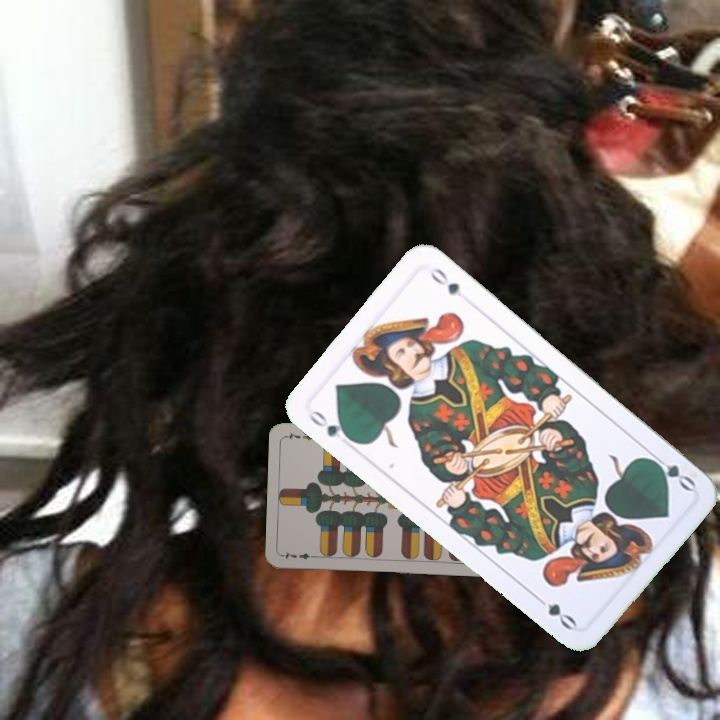E7: (280, 548, 320, 562)
GO: (644, 449, 698, 494), (305, 405, 357, 446)
